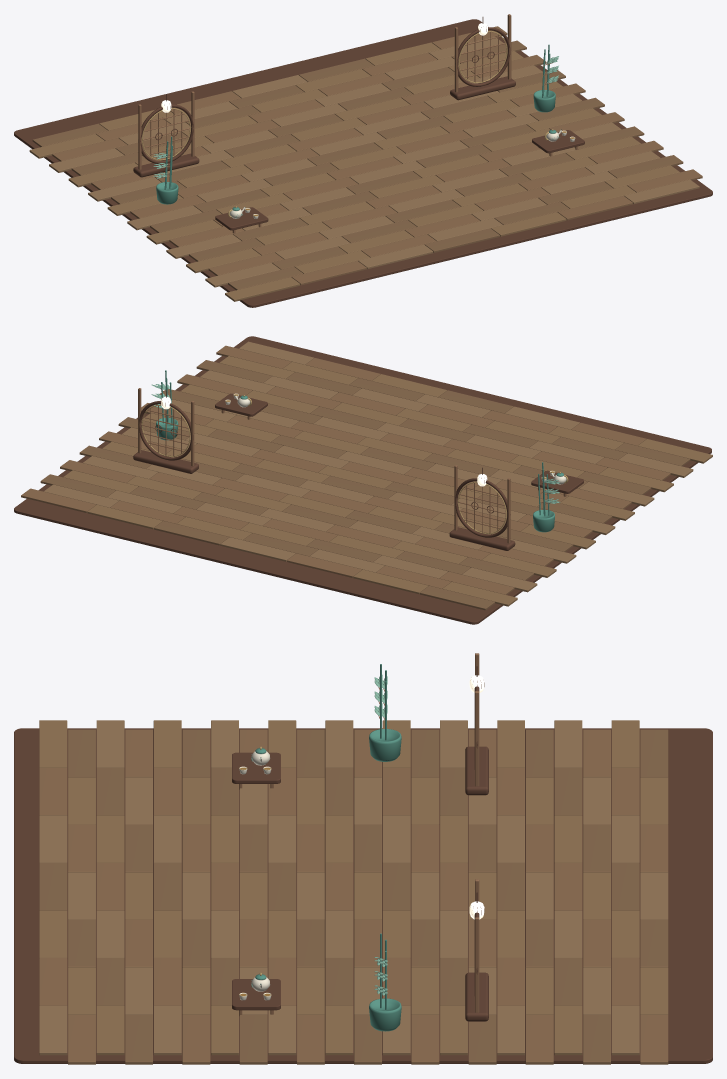
Rendered from mahjong_room_atelier.glb.
3 views of the same model, one above another, from view 1: azimuth 30°, elevation 25°; view 2: azimuth 150°, elevation 25°; view 3: azimuth 270°, elevation 25° (orthographic). The views are drawn at different scales.
Visible parts, largest first — view 1: mahjong_room_atelier__TaggedPainted_mahjong_room_atelier_Mat, mahjong_room_atelier__Painted_mahjong_room_atelier_Glaze, mahjong_room_atelier__Painted_mahjong_room_atelier_Metal; view 2: mahjong_room_atelier__TaggedPainted_mahjong_room_atelier_Mat, mahjong_room_atelier__Painted_mahjong_room_atelier_Glaze, mahjong_room_atelier__Painted_mahjong_room_atelier_Metal; view 3: mahjong_room_atelier__TaggedPainted_mahjong_room_atelier_Mat, mahjong_room_atelier__Painted_mahjong_room_atelier_Glaze.
Boxes of the visible parts, x1=… form: mahjong_room_atelier__TaggedPainted_mahjong_room_atelier_Mat: x1=29, y1=14, x2=702, y2=301; mahjong_room_atelier__Painted_mahjong_room_atelier_Glaze: x1=14, y1=17, x2=712, y2=307; mahjong_room_atelier__Painted_mahjong_room_atelier_Metal: x1=142, y1=31, x2=575, y2=217; mahjong_room_atelier__TaggedPainted_mahjong_room_atelier_Mat: x1=21, y1=341, x2=712, y2=610; mahjong_room_atelier__Painted_mahjong_room_atelier_Glaze: x1=14, y1=336, x2=711, y2=624; mahjong_room_atelier__Painted_mahjong_room_atelier_Metal: x1=142, y1=394, x2=568, y2=533; mahjong_room_atelier__TaggedPainted_mahjong_room_atelier_Mat: x1=39, y1=653, x2=668, y2=1064; mahjong_room_atelier__Painted_mahjong_room_atelier_Glaze: x1=14, y1=664, x2=712, y2=1063.
Bounding box in the file's own units: 37.01 × 6 × 32.
